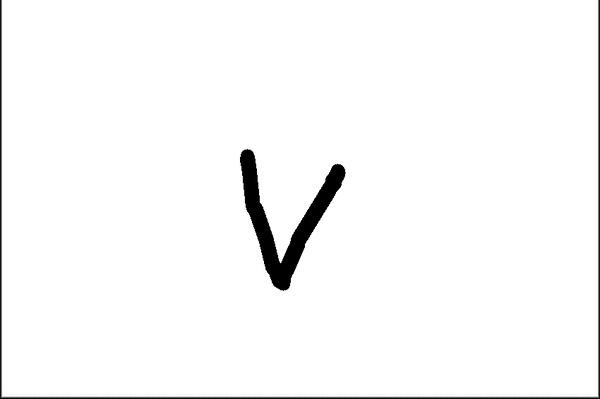V: (227, 139, 352, 296)
